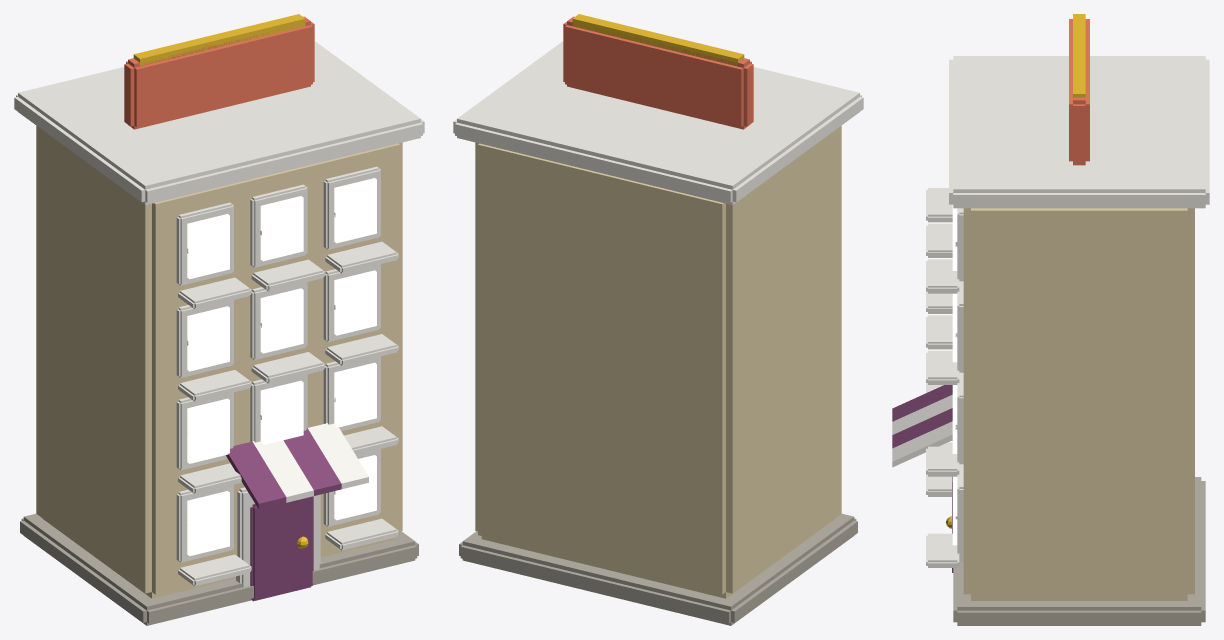
File: hotel.glb
The picture shows the model from 3 angles, left to right: view 1: azimuth 30°, elevation 25°; view 2: azimuth 150°, elevation 25°; view 3: azimuth 270°, elevation 25°; orthographic projection.
Visible parts, largest first — view 1: hotel; view 2: hotel; view 3: hotel.
Boxes of the visible parts, bbox=[...] form: hotel: bbox=[14, 14, 424, 625]; hotel: bbox=[453, 14, 863, 625]; hotel: bbox=[892, 14, 1209, 625].
Size of the model in its own units: 1.54 by 2.66 by 1.51.
